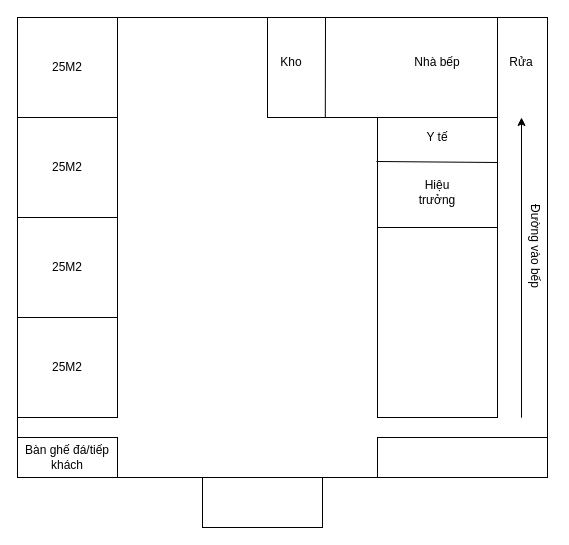
This 569x545 diagram has some shape labels left out. The box of each missing label's shape, as (x1, y1, x2, y2) in pixels:
30M2: (376, 226, 498, 418)
Nhà để xe phụ huynh/nhân viên: (376, 436, 548, 478)
